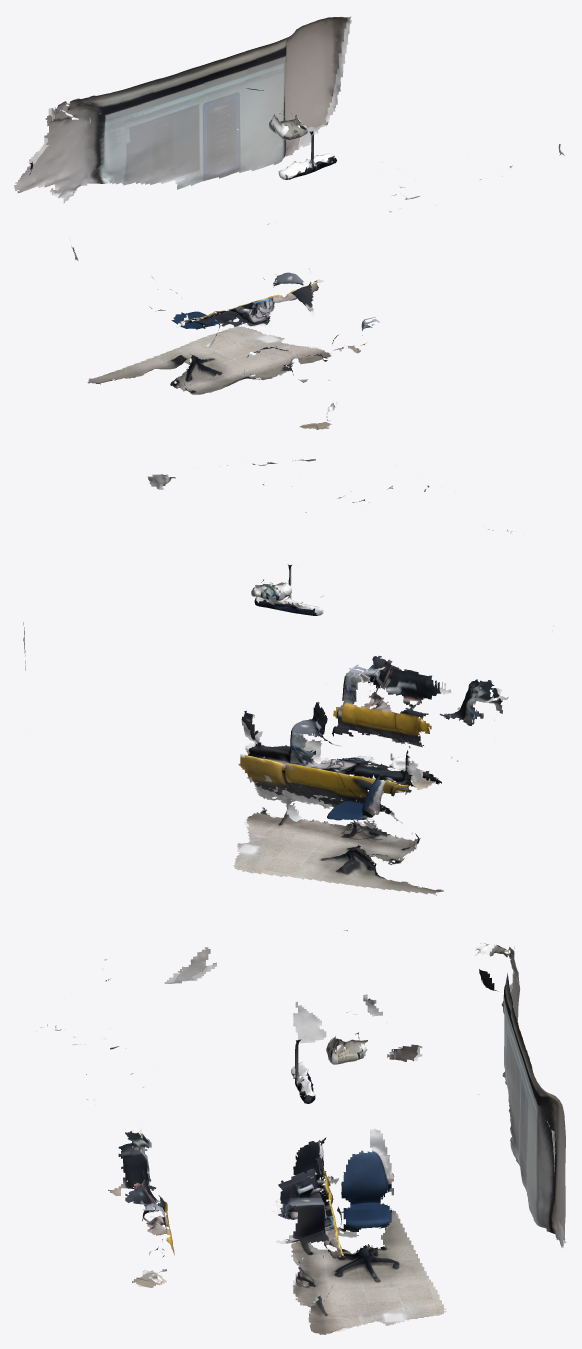
3 views of the same model, one above another, from view 1: azimuth 30°, elevation 25°; view 2: azimuth 150°, elevation 25°; view 3: azimuth 270°, elevation 25° (orthographic). The views are drawn at different scales.
Parts seen in each view (by area): view 1: texture_0, texture_1, object 1; view 2: texture_1, object 1, texture_0; view 3: texture_1, texture_0, object 1.
Part boxes in pixels (bbox=[...]): texture_0: bbox=[14, 16, 564, 260]; texture_1: bbox=[87, 114, 400, 429]; object 1: bbox=[27, 16, 512, 421]; texture_1: bbox=[220, 463, 512, 895]; object 1: bbox=[238, 465, 552, 864]; texture_0: bbox=[23, 459, 553, 758]; texture_1: bbox=[104, 930, 446, 1334]; texture_0: bbox=[40, 943, 565, 1239]; object 1: bbox=[54, 944, 566, 1331].
Bounding box in the file's own units: 5.62 × 2.92 × 5.07.
Materials: 3 (2 with a texture image).
